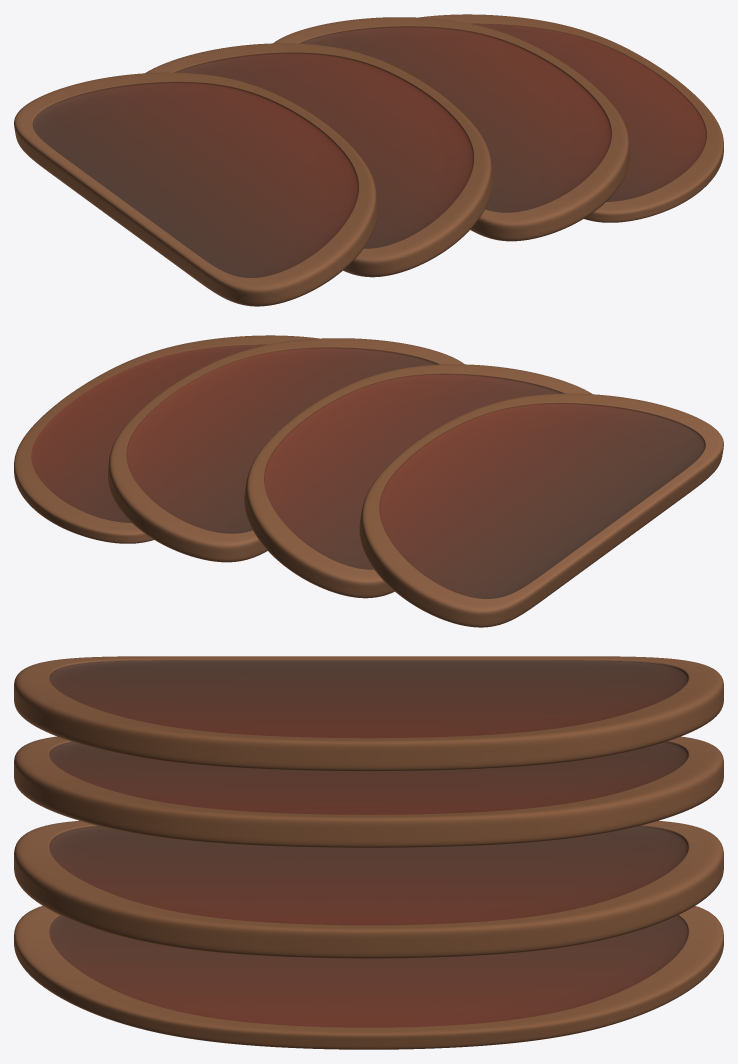
Rendered from HH_ChoppedSteak.fbx.
3 renders of one model, top to bottom at view 1: azimuth 30°, elevation 25°; view 2: azimuth 150°, elevation 25°; view 3: azimuth 270°, elevation 25°, orthographic. The views are drawn at different scales.
Visible parts, largest first — view 1: ChoppedSteak; view 2: ChoppedSteak; view 3: ChoppedSteak.
Boxes of the visible parts, left/top/right/bottom form: ChoppedSteak: left=14, top=14, right=723, bottom=306; ChoppedSteak: left=14, top=335, right=723, bottom=627; ChoppedSteak: left=14, top=656, right=723, bottom=1049.
Size of the model in its own units: 49.98 by 4.99 by 39.84.
Materials: 1 (1 with a texture image).
